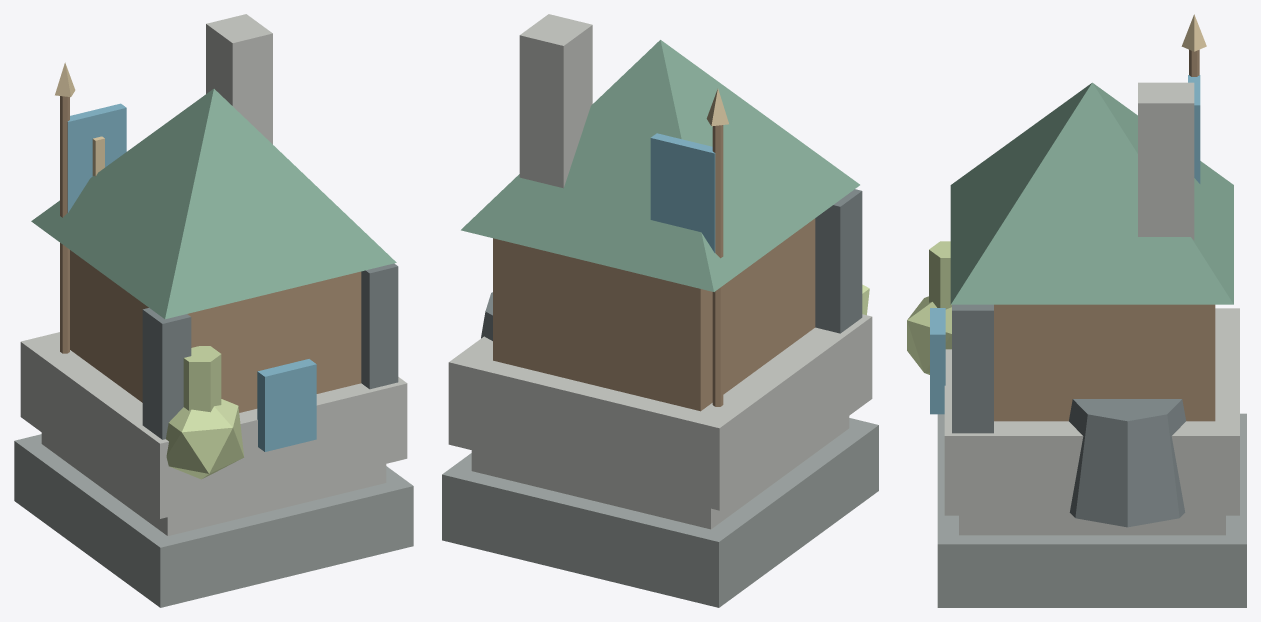
The model's file is human_alchemist_t4.glb.
3 views of the same model, side by side, from view 1: azimuth 30°, elevation 25°; view 2: azimuth 150°, elevation 25°; view 3: azimuth 270°, elevation 25° (orthographic). The views are drawn at different scales.
Visible parts, largest first — view 1: human_alchemist_t4_MAT_leaf, human_alchemist_t4_MAT_stone, human_alchemist_t4_MAT_dark, human_alchemist_t4_MAT_wood, human_alchemist_t4_MAT_iron, human_alchemist_t4_MAT_blue, human_alchemist_t4_MAT_poison, human_alchemist_t4_MAT_gold; view 2: human_alchemist_t4_MAT_stone, human_alchemist_t4_MAT_leaf, human_alchemist_t4_MAT_wood, human_alchemist_t4_MAT_dark, human_alchemist_t4_MAT_iron, human_alchemist_t4_MAT_blue; view 3: human_alchemist_t4_MAT_leaf, human_alchemist_t4_MAT_stone, human_alchemist_t4_MAT_dark, human_alchemist_t4_MAT_wood, human_alchemist_t4_MAT_iron, human_alchemist_t4_MAT_poison, human_alchemist_t4_MAT_blue, human_alchemist_t4_MAT_gold.
Boxes of the visible parts, x1,y1,x2,y2 form: human_alchemist_t4_MAT_leaf: (31,89,396,319); human_alchemist_t4_MAT_stone: (20,14,407,535); human_alchemist_t4_MAT_dark: (14,434,413,607); human_alchemist_t4_MAT_wood: (60,96,361,412); human_alchemist_t4_MAT_iron: (142,263,398,439); human_alchemist_t4_MAT_blue: (67,103,316,451); human_alchemist_t4_MAT_poison: (166,346,244,479); human_alchemist_t4_MAT_gold: (55,62,104,176); human_alchemist_t4_MAT_stone: (448,14,872,529); human_alchemist_t4_MAT_leaf: (461,40,859,291); human_alchemist_t4_MAT_wood: (493,125,815,411); human_alchemist_t4_MAT_dark: (442,418,878,607); human_alchemist_t4_MAT_iron: (481,189,862,340); human_alchemist_t4_MAT_blue: (650,133,715,252); human_alchemist_t4_MAT_leaf: (950,82,1233,304); human_alchemist_t4_MAT_stone: (944,82,1239,535); human_alchemist_t4_MAT_dark: (937,413,1246,607); human_alchemist_t4_MAT_wood: (994,49,1215,421); human_alchemist_t4_MAT_iron: (952,304,1185,527); human_alchemist_t4_MAT_poison: (907,241,951,374); human_alchemist_t4_MAT_blue: (930,75,1200,414); human_alchemist_t4_MAT_gold: (1181,14,1206,51).
Size of the model in its own units: 0.97 by 1.51 by 0.9676.
